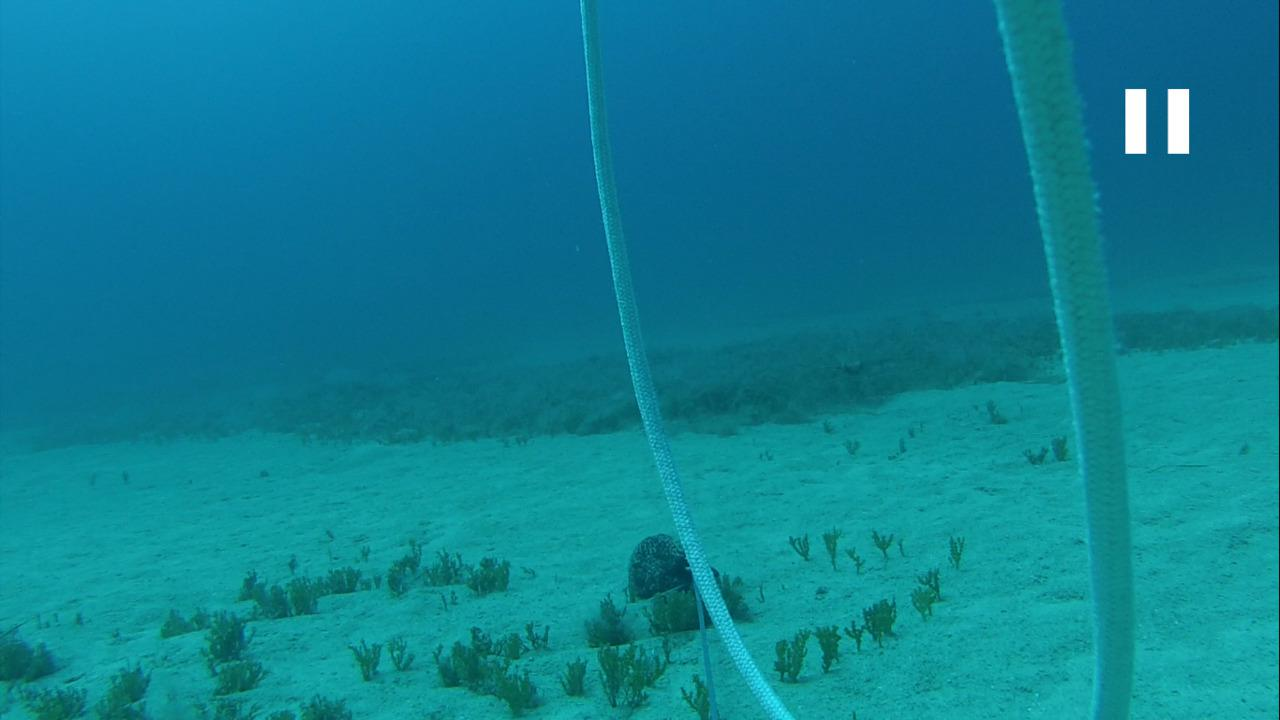dactylopterus: (816, 338, 872, 400)
